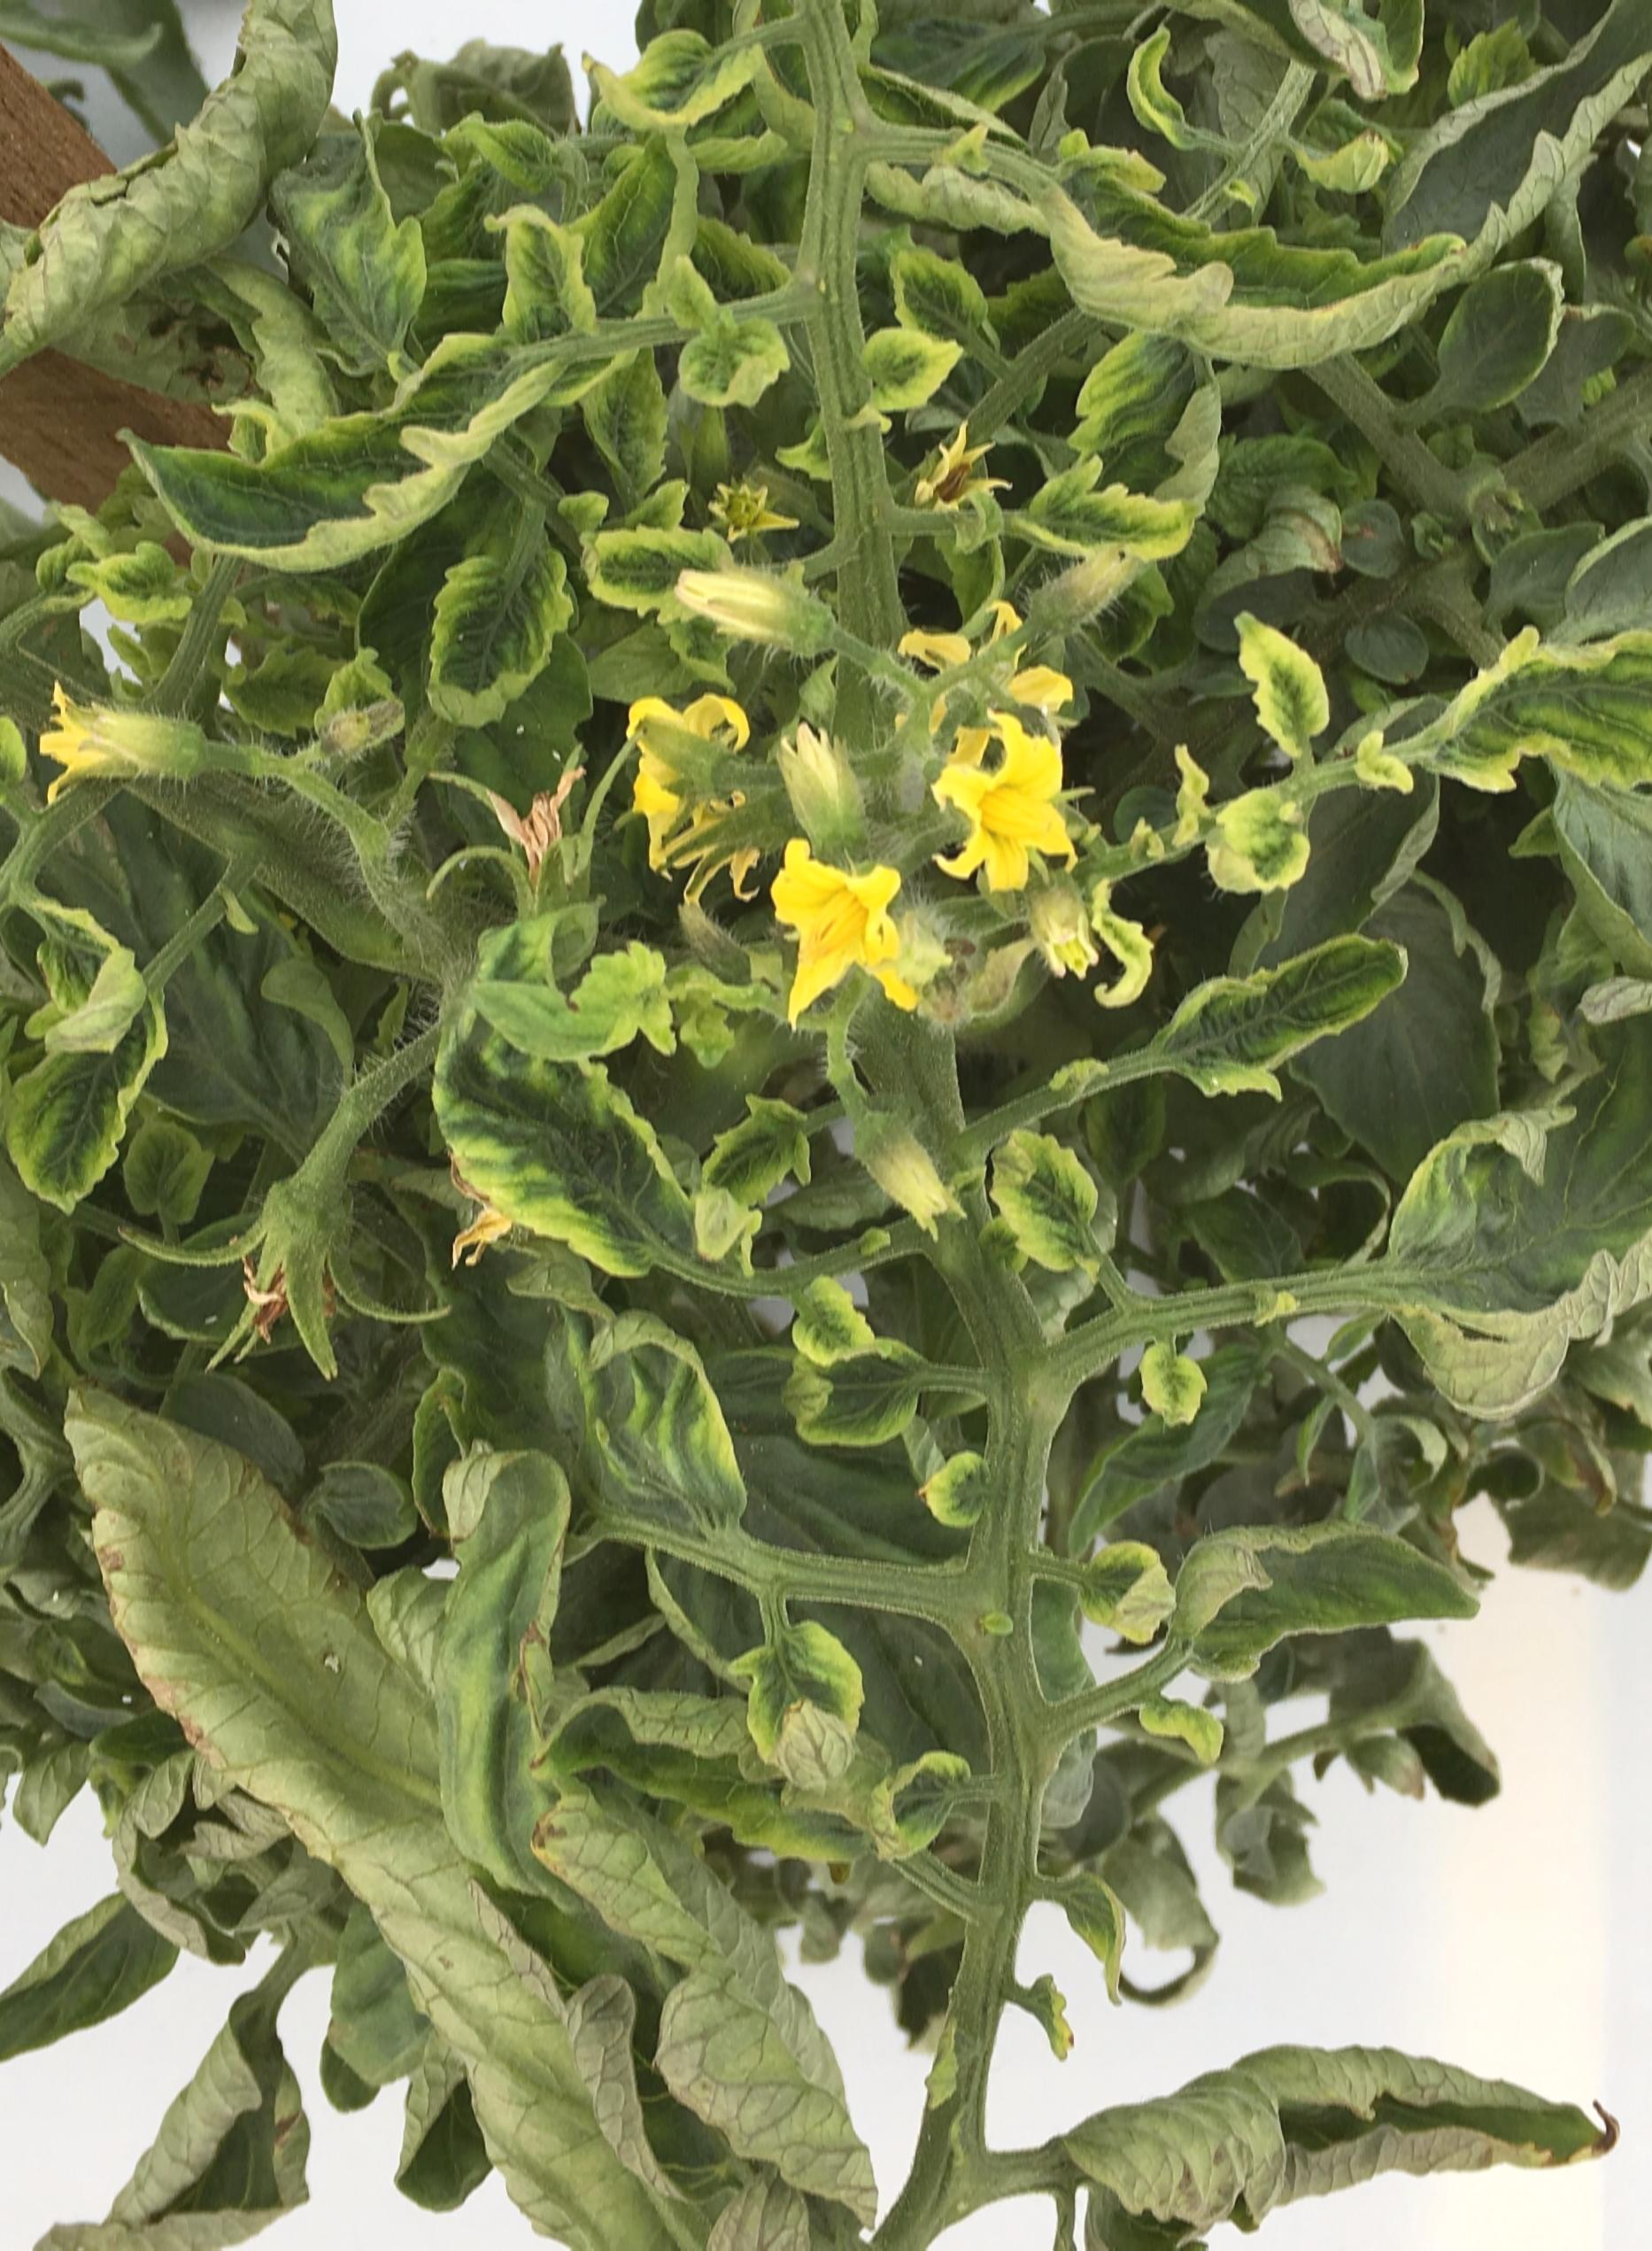Tomato leaf yellow virus: (900, 70, 1605, 360), (115, 206, 614, 597), (1355, 933, 1652, 1475), (395, 895, 745, 1303), (419, 1203, 783, 1545), (1380, 586, 1652, 923), (0, 889, 177, 1255), (389, 514, 587, 728)
